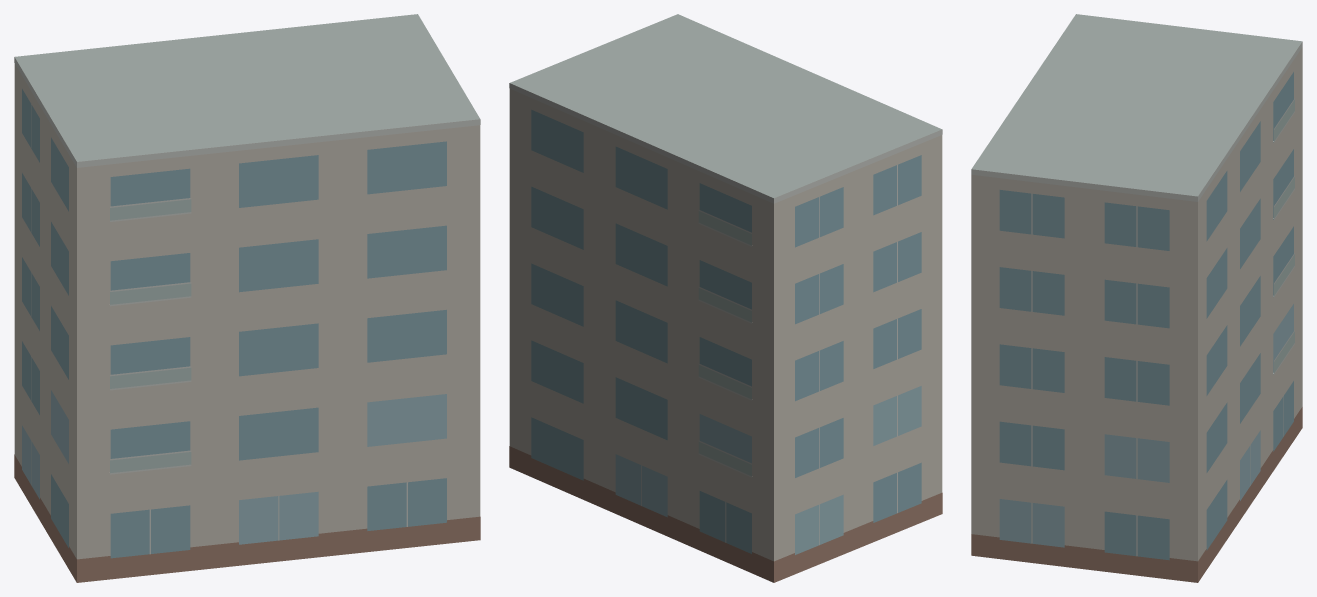
The model's file is survey-upis-33010319.glb.
3 views of the same model, side by side, from view 1: azimuth 30°, elevation 25°; view 2: azimuth 150°, elevation 25°; view 3: azimuth 270°, elevation 25° (orthographic). The views are drawn at different scales.
Parts seen in each view (by area): view 1: survey-upis-33010319.tmp; view 2: survey-upis-33010319.tmp; view 3: survey-upis-33010319.tmp.
Part boxes in pixels (left/top/right/bottom): survey-upis-33010319.tmp: left=14, top=14, right=480, bottom=582; survey-upis-33010319.tmp: left=509, top=14, right=942, bottom=582; survey-upis-33010319.tmp: left=971, top=14, right=1302, bottom=582.
Bounding box in the file's own units: 17.53 × 17.3 × 13.45.
